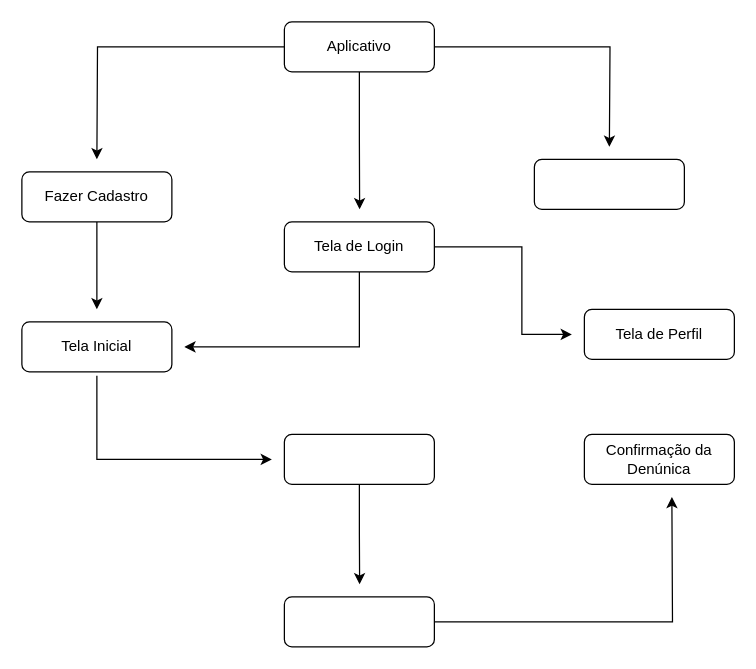
Some shapes in this 756 by 669 pixel diagram are drawn without their labels. The shapes that lost their labels are listed below. From the top down, each one's centre as x and y in pixels, then its label:
point (608, 183): Ajuda e Documentção
point (358, 458): Criar Denúncia
point (358, 621): Verificação da Denúncia
